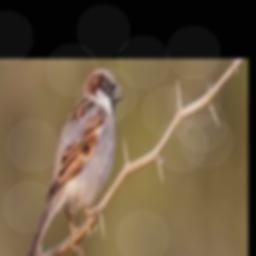Sparrow: (25, 67, 124, 256)
